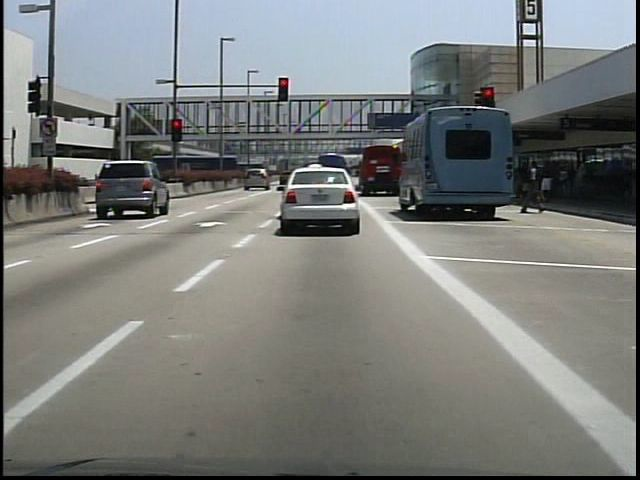person: (521, 152, 542, 213), (538, 157, 555, 204)
